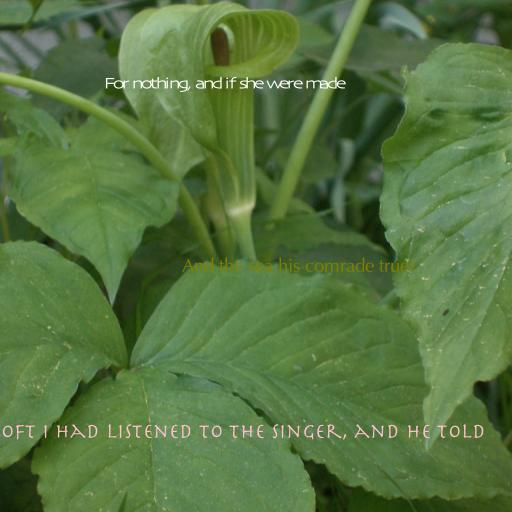Herculanum: (0, 424, 486, 440)
Optima: (181, 257, 415, 272)
Skia: (104, 76, 344, 92)
